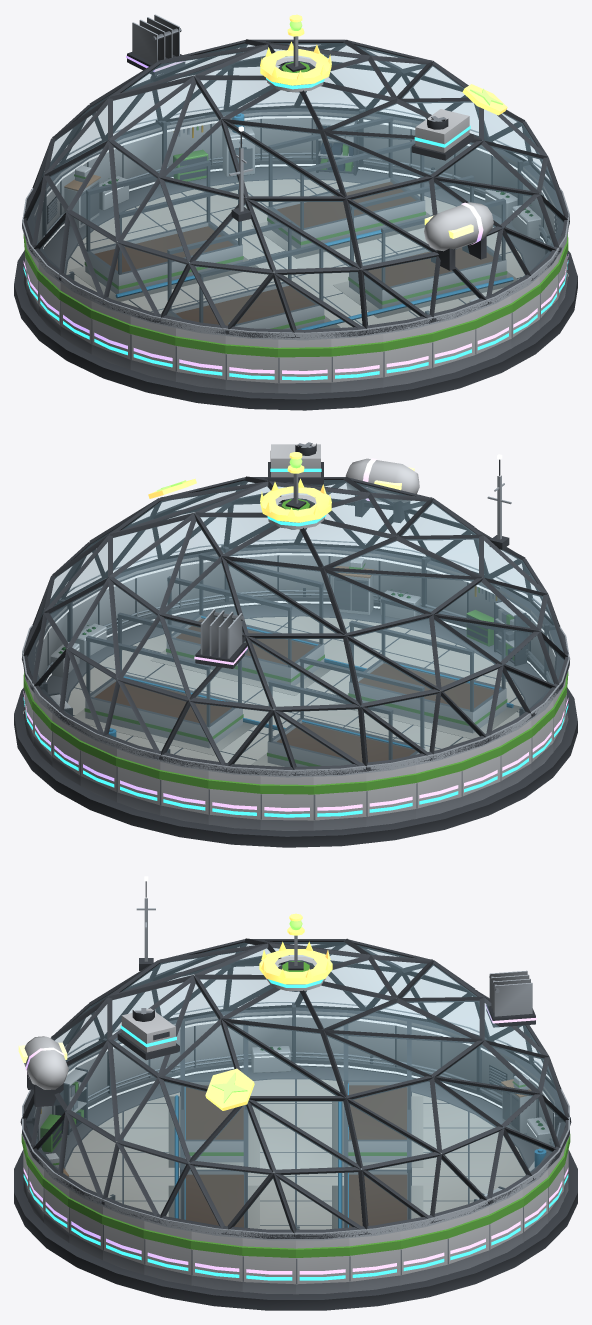
Rendered from greenhouse.glb.
The picture shows the model from 3 angles, top to bottom: view 1: azimuth 30°, elevation 25°; view 2: azimuth 150°, elevation 25°; view 3: azimuth 270°, elevation 25°; orthographic projection.
Visible parts, largest first — view 1: Roof, Base, Interior, L4, L2, L3, L5, Wall_20, Wall_21, Wall_22, Wall_19, Wall_23 (+24 smaller); view 2: Roof, Base, Interior, L4, L2, L3, Wall_11, Wall_10, L5, Wall_09, Wall_12, Wall_08 (+22 smaller); view 3: Roof, Base, Interior, L4, L2, L3, L5, Wall_00, Wall_31, Wall_16, Wall_01, Wall_30 (+23 smaller).
Part boxes in pixels (left/top/right/bottom): Roof: left=22, top=39, right=569, bottom=338; Base: left=14, top=166, right=577, bottom=410; Interior: left=69, top=116, right=517, bottom=329; L4: left=23, top=14, right=568, bottom=374; L2: left=22, top=102, right=569, bottom=340; L3: left=23, top=57, right=568, bottom=380; L5: left=260, top=14, right=507, bottom=115; Wall_20: left=225, top=322, right=278, bottom=393; Wall_21: left=278, top=339, right=331, bottom=393; Wall_22: left=331, top=334, right=383, bottom=392; Wall_19: left=175, top=328, right=225, bottom=389; Wall_23: left=383, top=324, right=432, bottom=387; Roof: left=22, top=476, right=569, bottom=775; Base: left=14, top=604, right=577, bottom=847; Interior: left=74, top=553, right=521, bottom=766; L4: left=23, top=458, right=568, bottom=811; L2: left=22, top=454, right=569, bottom=777; L3: left=23, top=442, right=568, bottom=817; Wall_11: left=313, top=773, right=366, bottom=830; Wall_10: left=260, top=776, right=313, bottom=830; L5: left=148, top=452, right=331, bottom=522; Wall_09: left=208, top=771, right=260, bottom=829; Wall_12: left=366, top=765, right=416, bottom=826; Wall_08: left=159, top=749, right=208, bottom=824; Roof: left=20, top=938, right=571, bottom=1238; Base: left=14, top=1066, right=577, bottom=1310; Interior: left=168, top=1020, right=423, bottom=1228; L4: left=18, top=970, right=568, bottom=1274; L2: left=22, top=876, right=569, bottom=1240; L3: left=23, top=956, right=568, bottom=1280; L5: left=205, top=913, right=332, bottom=1110; Wall_00: left=296, top=1226, right=349, bottom=1294; Wall_31: left=242, top=1238, right=295, bottom=1294; Wall_16: left=244, top=1003, right=295, bottom=1073; Wall_01: left=349, top=1231, right=400, bottom=1291; Wall_30: left=191, top=1231, right=242, bottom=1291.
Bounding box in the file's own units: 11.74 × 6.32 × 11.74.
